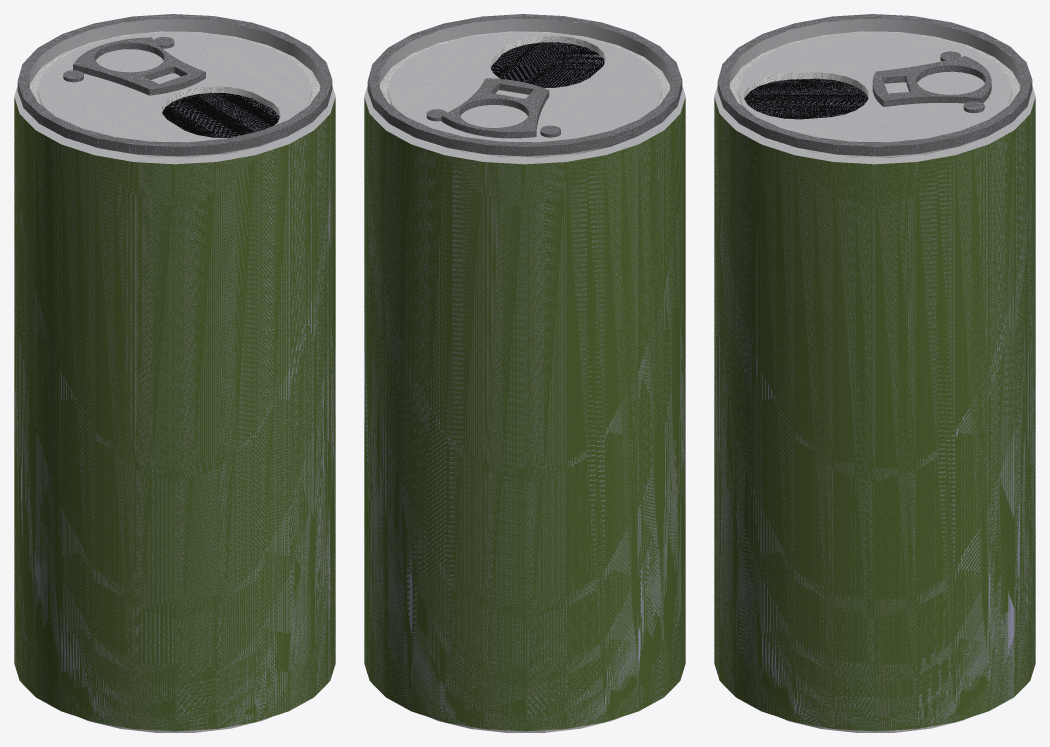
3 views of the same model, side by side, from view 1: azimuth 30°, elevation 25°; view 2: azimuth 150°, elevation 25°; view 3: azimuth 270°, elevation 25° (orthographic).
Parts seen in each view (by area): view 1: SketchUp (×9); view 2: SketchUp (×9); view 3: SketchUp (×9).
Part boxes in pixels (box(x1,y1,x2,y2)): SketchUp (×9): box(14, 14, 335, 731); SketchUp (×9): box(364, 14, 685, 731); SketchUp (×9): box(714, 14, 1035, 731).
Bounding box in the file's own units: 36.22 × 36.22 × 73.62.
